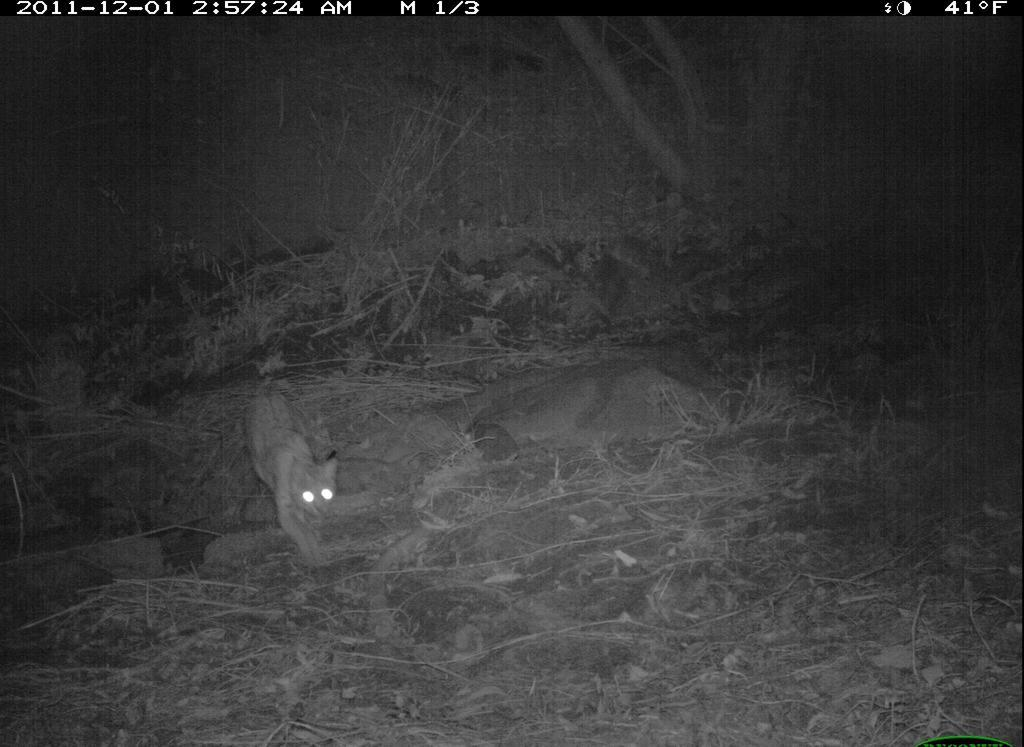bobcat: (242, 374, 349, 573)
